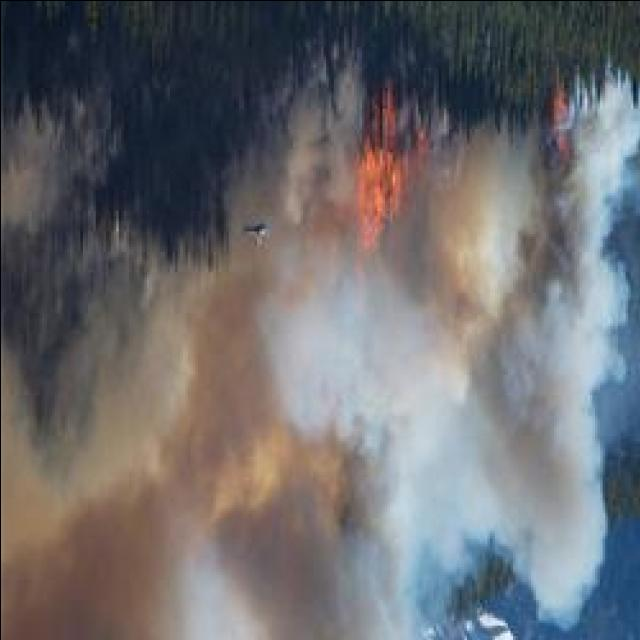fire: (352, 102, 412, 248)
smoke: (289, 257, 445, 451), (490, 403, 618, 625), (428, 131, 530, 321), (283, 66, 354, 206), (562, 82, 624, 238), (516, 164, 576, 308), (0, 110, 54, 225)
